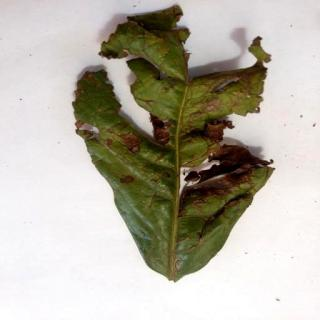Algal Leaf: (75, 8, 275, 282)
